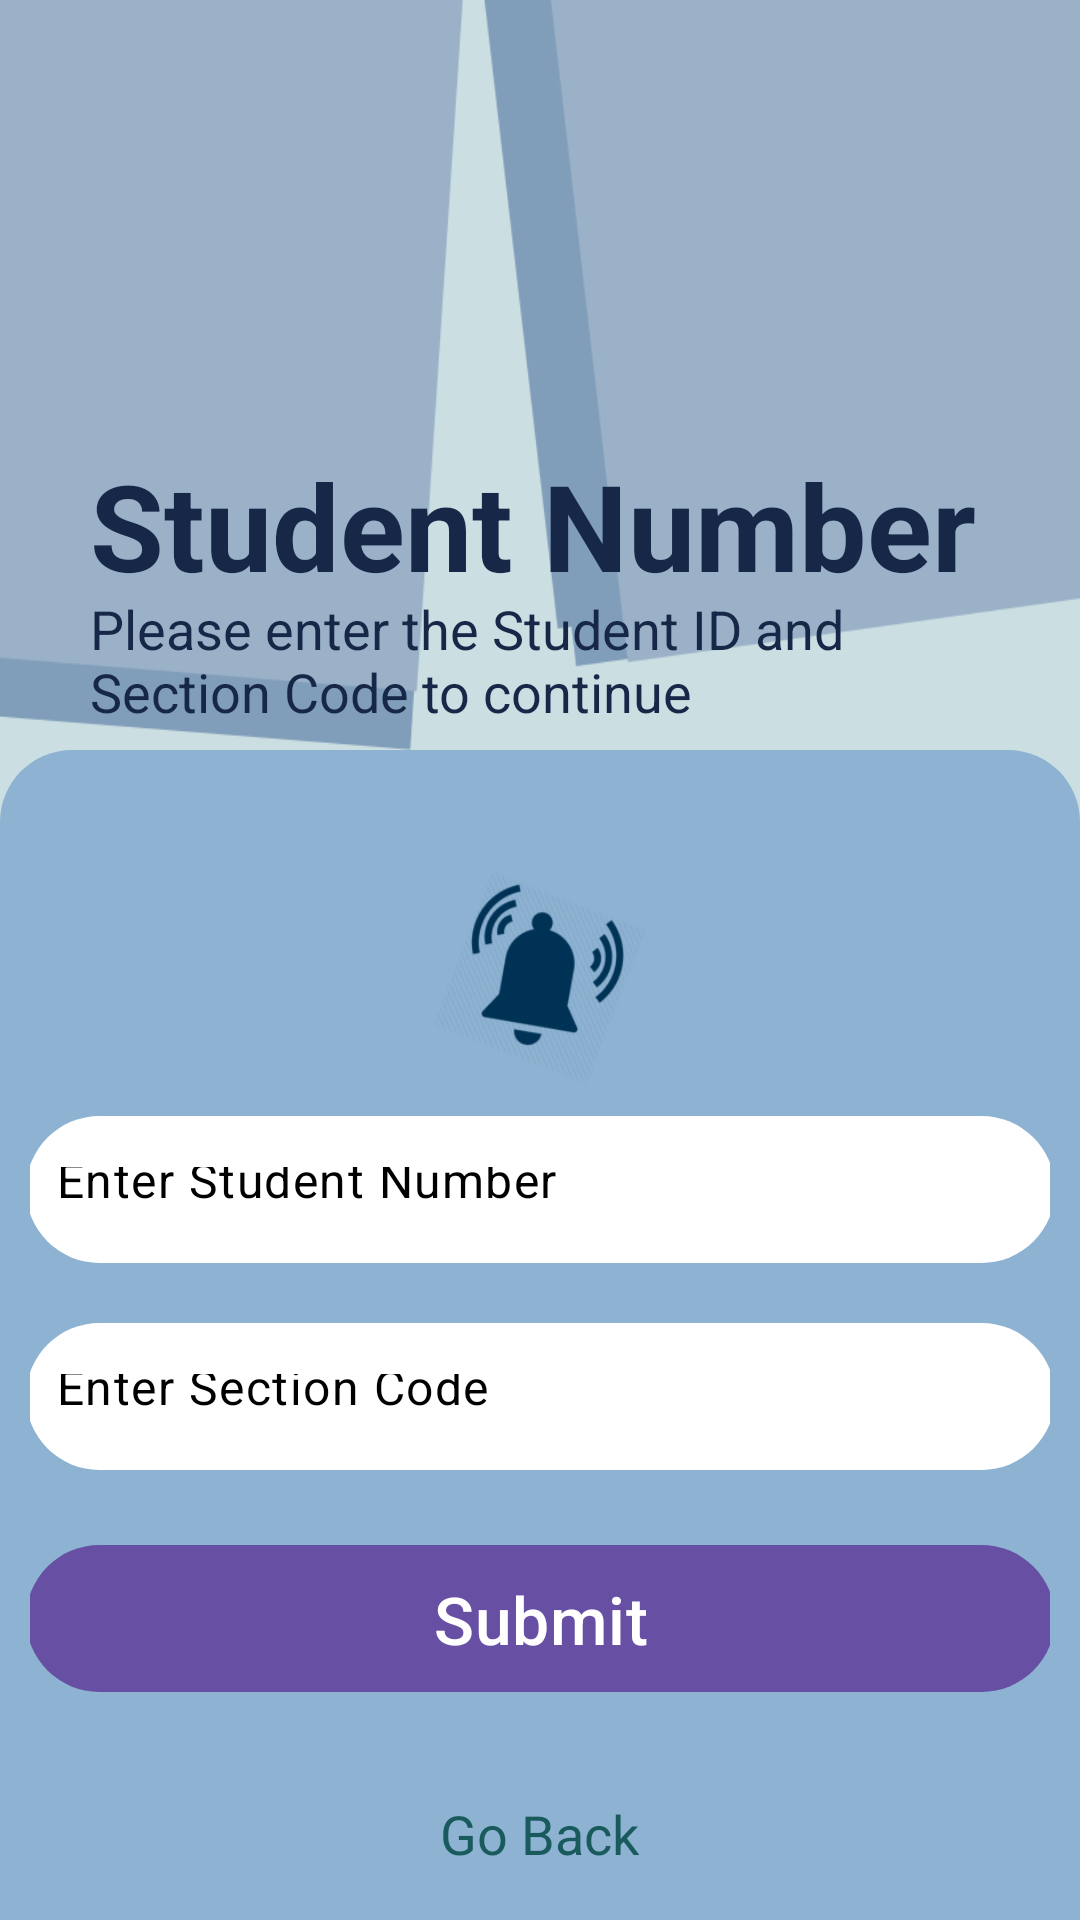

Screen size 1080*1920. Icon name, then its center in pixels as (x,y):
bell auth: (547,964)
